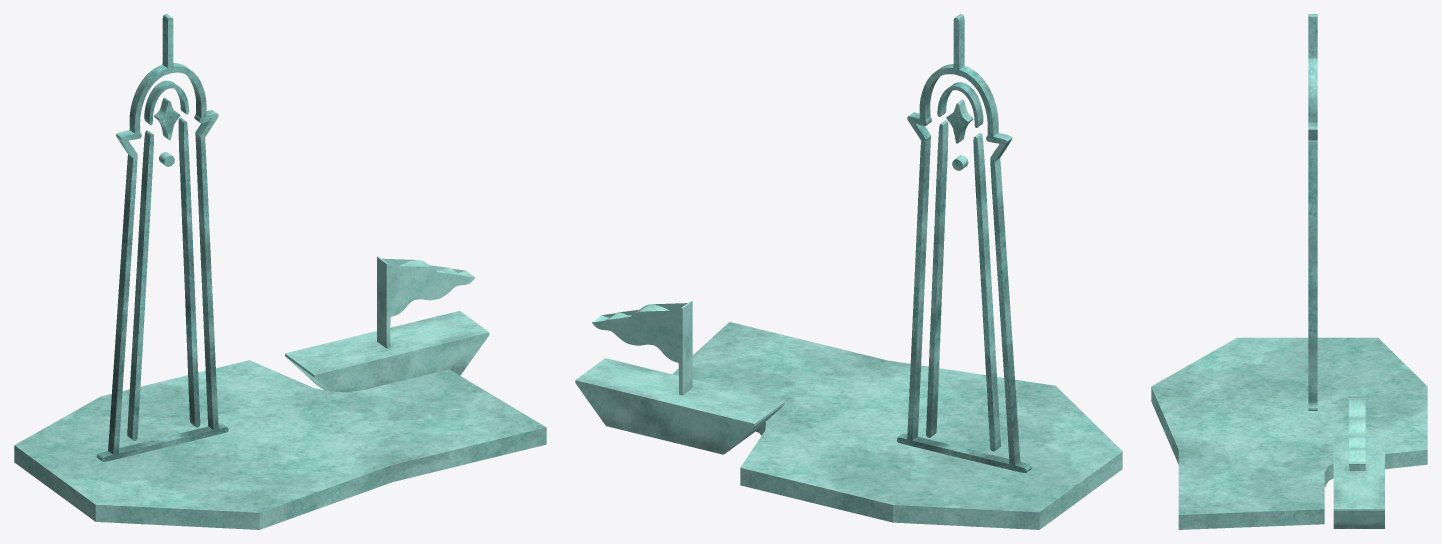
Rendered from light house.fbx.
The picture shows the model from 3 angles, left to right: view 1: azimuth 30°, elevation 25°; view 2: azimuth 150°, elevation 25°; view 3: azimuth 270°, elevation 25°; orthographic projection. The views are drawn at different scales.
Parts seen in each view (by area): view 1: Cube.035, GreasePencil.003, GreasePencil.005; view 2: Cube.035, GreasePencil.003, GreasePencil.005; view 3: Cube.035, GreasePencil.005, GreasePencil.003.
Boxes of the visible parts, box(x1,y1,x2,y2) form: Cube.035: box(14, 360, 546, 529); GreasePencil.003: box(96, 14, 228, 461); GreasePencil.005: box(285, 256, 489, 392); Cube.035: box(672, 322, 1122, 529); GreasePencil.003: box(896, 14, 1032, 472); GreasePencil.005: box(575, 301, 784, 454); Cube.035: box(1151, 337, 1427, 529); GreasePencil.005: box(1333, 395, 1384, 528); GreasePencil.003: box(1308, 14, 1317, 410).
Bounding box in the file's own units: 416 × 394 × 255.
Materials: 3 (3 with a texture image).
